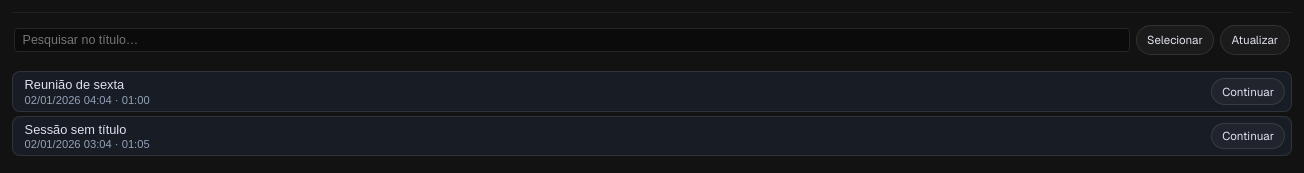
Test: HistoryPanel › busca no banco pelo título e filtra a lista
This screenshot has width=1304, height=173.
Expected: the text "Reunião de sexta" is shown, [25,77,124,92]
Type "reuniao" into the search field labelled "Pesquisar no título…".
click(572, 40); type("reuniao")  # box [14,28,1130,52]
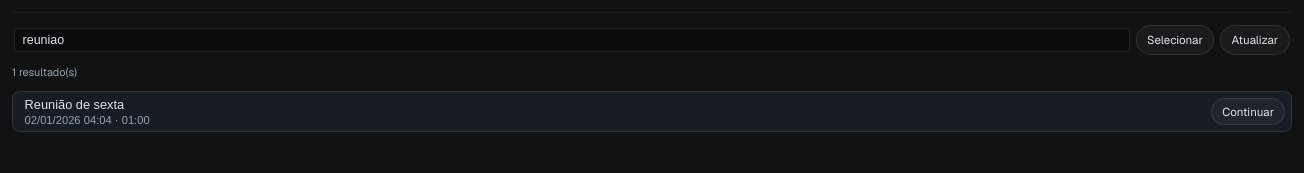
Now the text "1 resultado(s)" is shown, box [12,65,77,79]
Now the button "Sessão sem título" is gone
